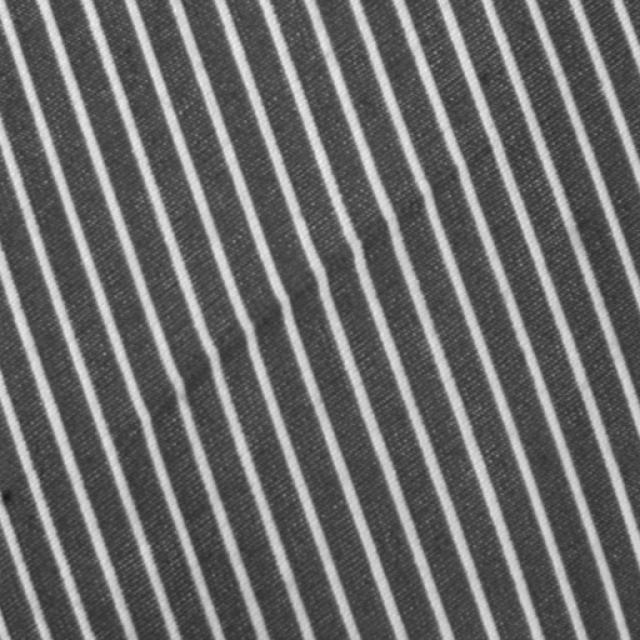Thread-Defect: (22, 141, 500, 510)
